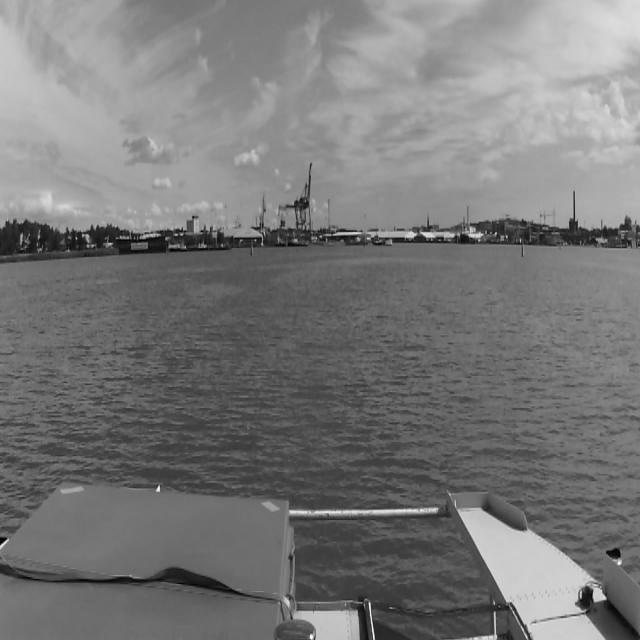buoy: (250, 241, 254, 256), (522, 243, 524, 257)
ship: (456, 223, 470, 245)
